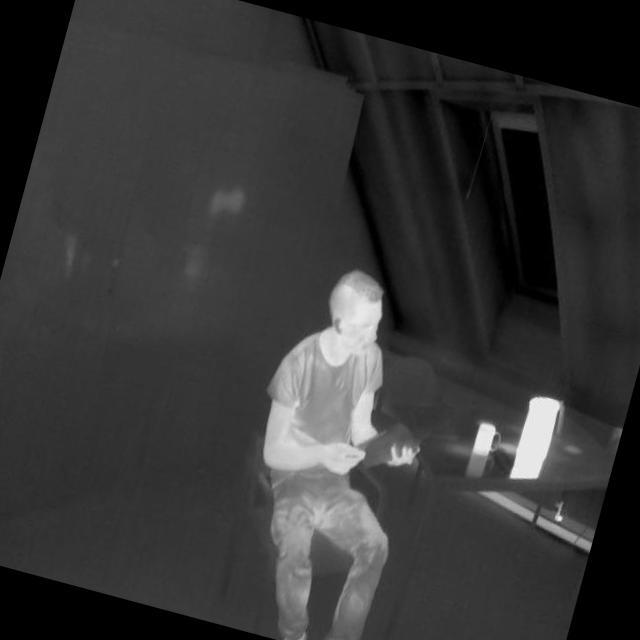person: (205, 246, 469, 640)
